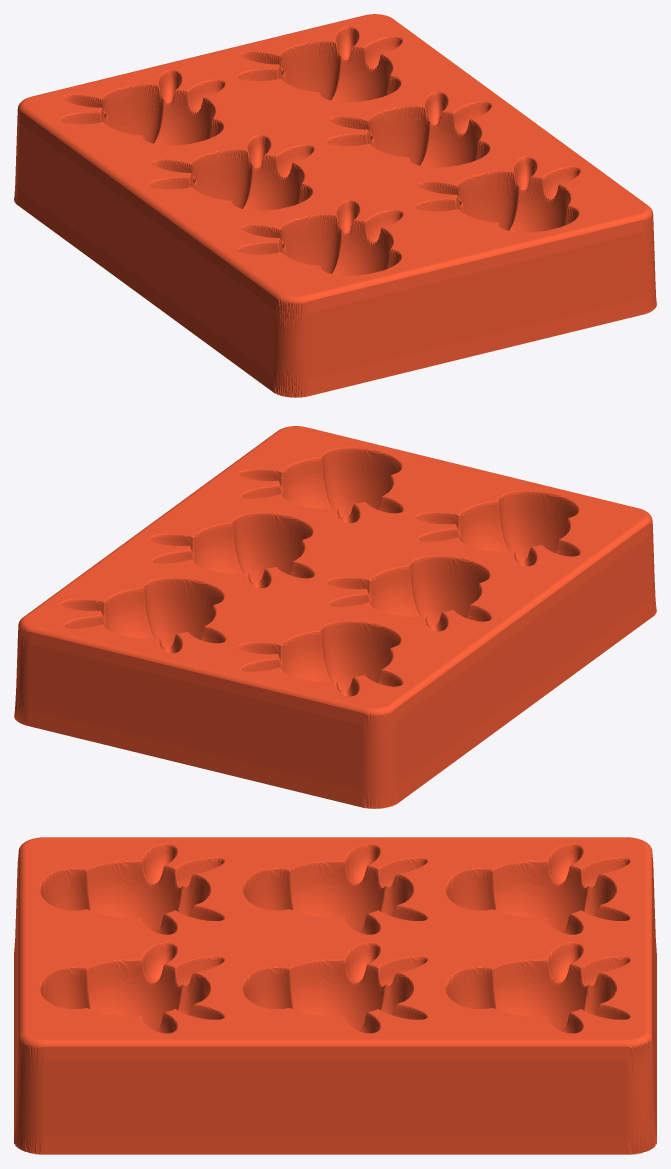
Rendered from mold.glb.
3 views of the same model, one above another, from view 1: azimuth 30°, elevation 25°; view 2: azimuth 150°, elevation 25°; view 3: azimuth 270°, elevation 25° (orthographic). The views are drawn at different scales.
Visible parts, largest first — view 1: geometry_0; view 2: geometry_0; view 3: geometry_0.
Boxes of the visible parts, box(x1,y1,x2,y2) form: geometry_0: box(14, 14, 656, 397); geometry_0: box(14, 426, 656, 808); geometry_0: box(14, 837, 656, 1154).
Size of the model in its own units: 0.1485 by 0.036 by 0.1905.
